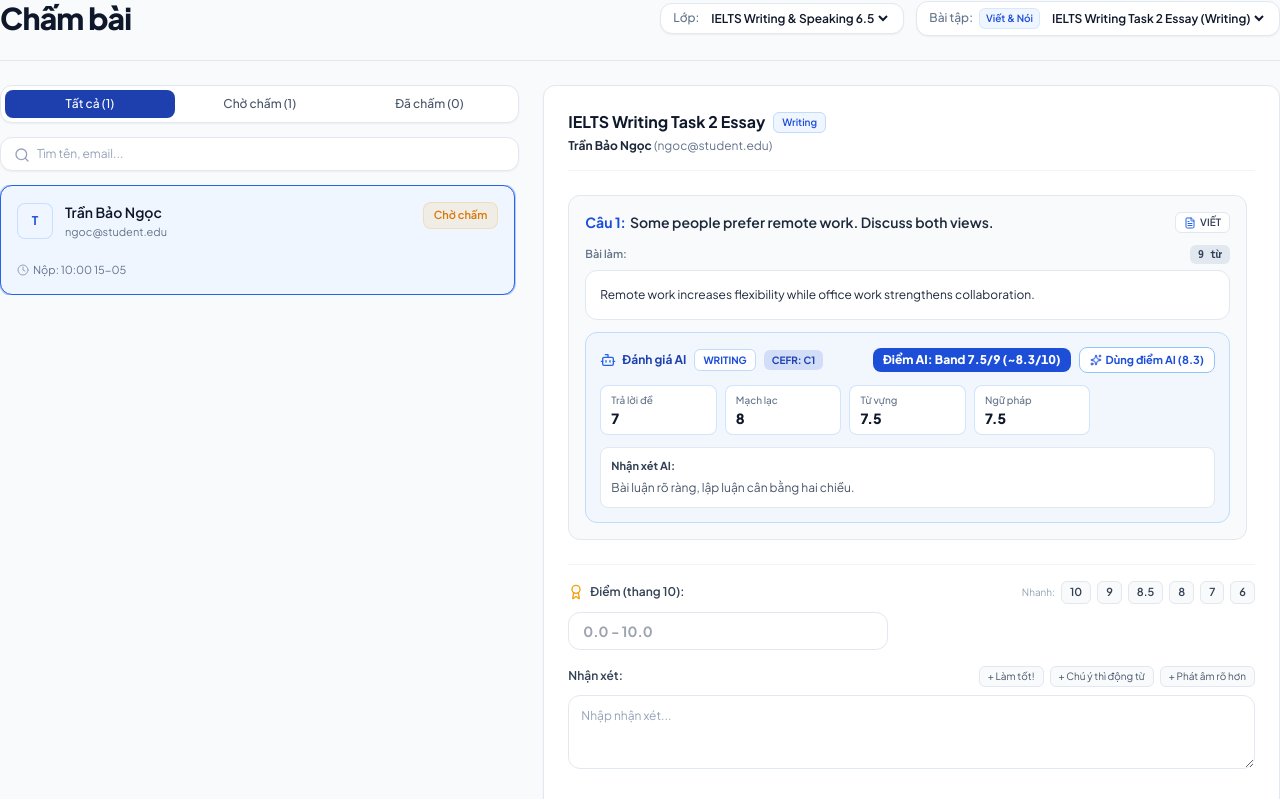
it: Teacher Module - Components, Modals & Pages › ExamBuilderModal & Teacher Pages › TeacherGradingPage hiển thị gợi ý AI Speaking/Writing, áp dụng điểm AI sang thang 10 và chốt điểm + nhận xét của giáo viên
Expected: the heading "Trần Bảo Ngọc" is shown, [65, 202, 167, 222]
Expected: the text "Bài luận rõ ràng, lập luận cân bằng hai chiều." is shown, [611, 480, 854, 494]
Áp dụng điểm gợi ý AI Band 7.5/9 (~8.3/10) vào ô điểm của giáo viên
Click the button "Dùng điểm AI (8.3)": (1147, 360) [1079, 346, 1215, 372]
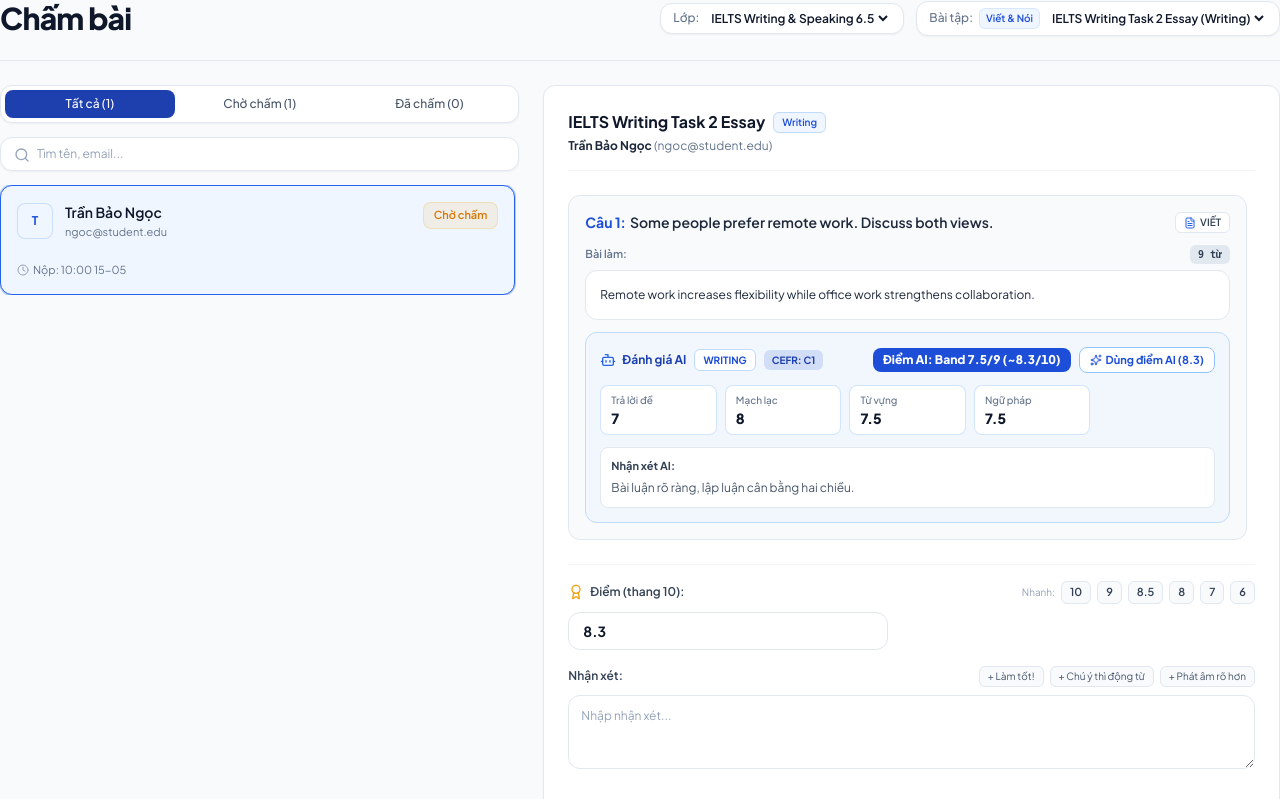
Now the number field with placeholder "0.0 - 10.0" holds "8.3", box [568, 612, 888, 650]
Giáo viên bấm chip nhận xét nhanh, chỉnh điểm chốt thành 8.5 và bấm Lưu điểm
Click the button "+ Làm tốt!": (1011, 676) [979, 666, 1044, 686]
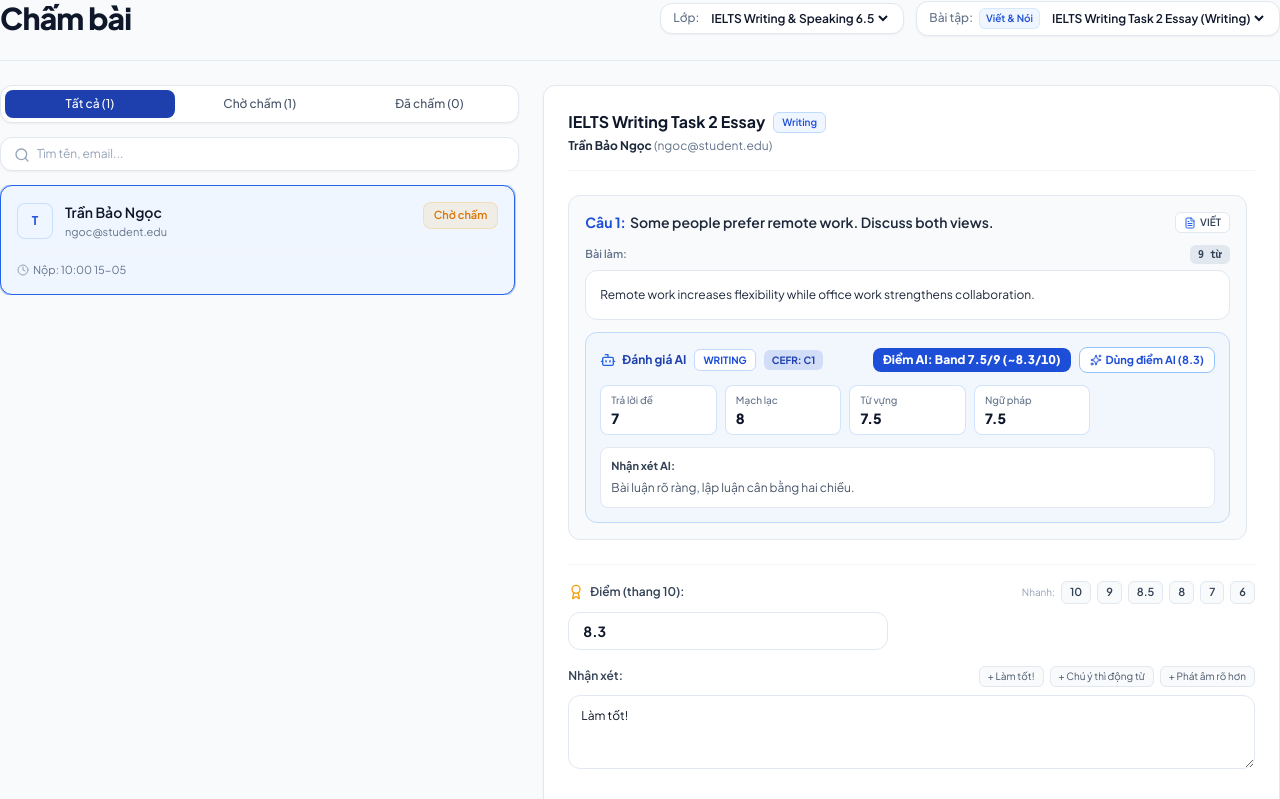
Replace the text in the number field with placeholder "0.0 - 10.0" with "8.5": (728, 630) [568, 612, 888, 650]
(page scrolled)
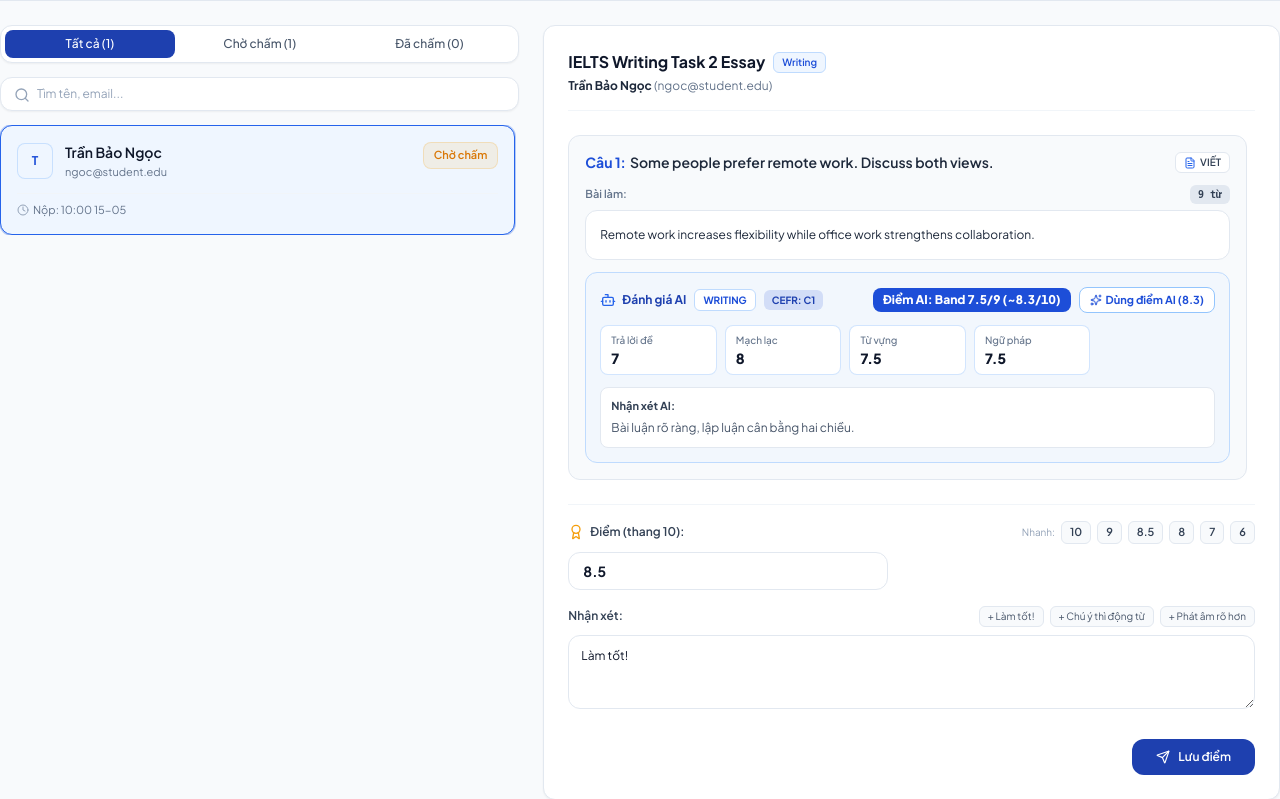
Click the button "Lưu điểm": (1194, 756) [1132, 738, 1255, 774]
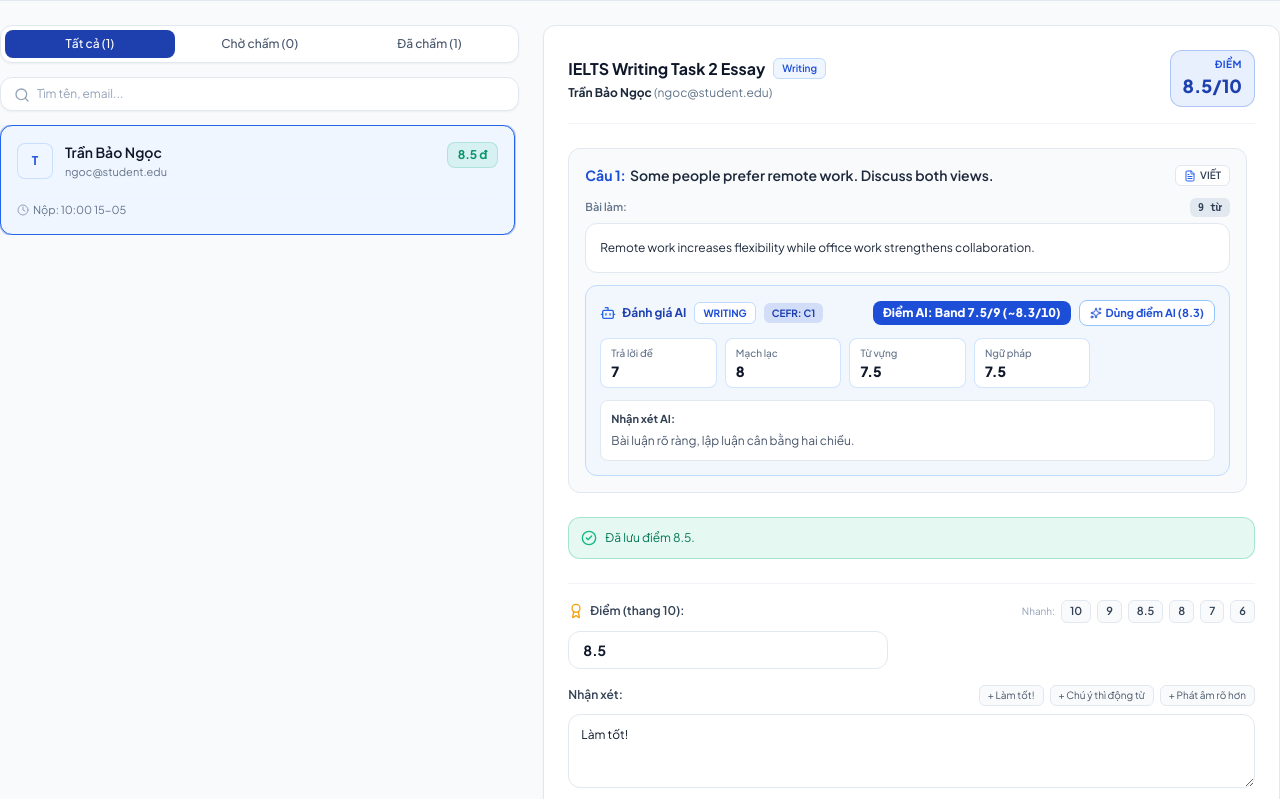
Now the text "Đã lưu điểm 8.5." is shown, box [605, 530, 695, 546]
